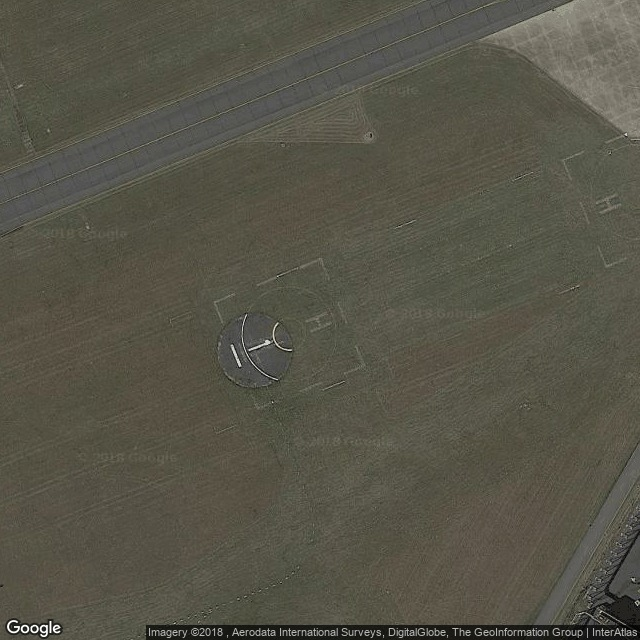heliport: (302, 308, 333, 334)
